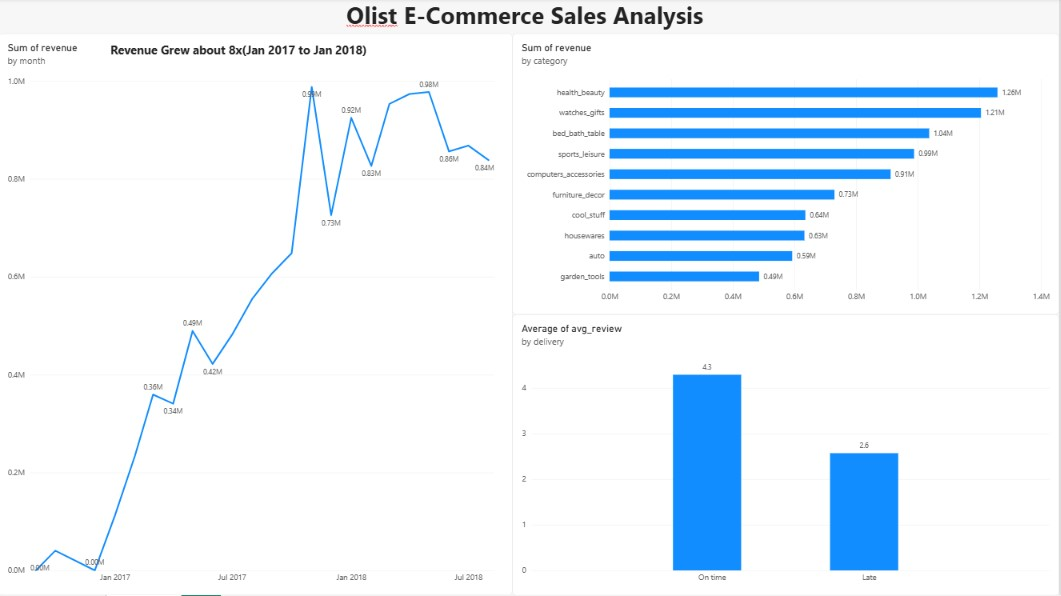

What the dashboard file says about the page in this screenshot:
{"tool":"powerbi","page":{"name":"Page 1","canvas":[1920,1080],"ordinal":0},"visuals":[{"type":"lineChart","fields":{"Category":["q1_monthly_revenue.month"],"Y":["Sum(q1_monthly_revenue.revenue)"]},"box":[0,63.3,930.2,1017],"z":0},{"type":"barChart","fields":{"Category":["q2_top_categories.category"],"Y":["Sum(q2_top_categories.revenue)"]},"box":[930.2,63.3,989.9,508.5],"z":1000},{"type":"clusteredColumnChart","fields":{"Category":["q3_late_vs_reviews.delivery"],"Y":["Avg(q3_late_vs_reviews.avg_review)"]},"box":[930.2,571.9,989.9,508.5],"z":1001},{"type":"textbox","box":[99.5,0,1706.5,63.3],"z":1002},{"type":"textbox","box":[202.7,77.8,510.3,74.2],"z":1003}]}

Visuals, with their boxes in screenshot pixels (x1, y1, x2, y2), scaled from the page's 1920x1080 canvas onto the 1061x596 screenshot:
lineChart - q1_monthly_revenue.month x Sum(q1_monthly_revenue.revenue): [x1=0, y1=35, x2=514, y2=595]
barChart - q2_top_categories.category x Sum(q2_top_categories.revenue): [x1=514, y1=35, x2=1060, y2=316]
clusteredColumnChart - q3_late_vs_reviews.delivery x Avg(q3_late_vs_reviews.avg_review): [x1=514, y1=316, x2=1060, y2=595]
textbox: [x1=55, y1=0, x2=998, y2=35]
textbox: [x1=112, y1=43, x2=394, y2=84]
